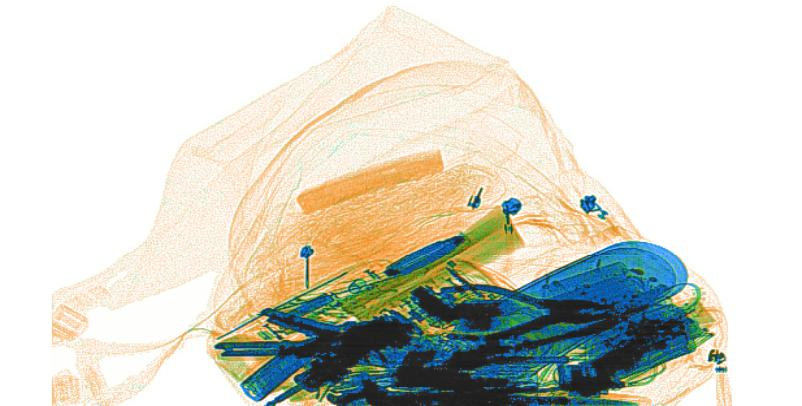battery: (534, 257, 698, 385), (241, 329, 317, 405), (273, 289, 335, 326)
